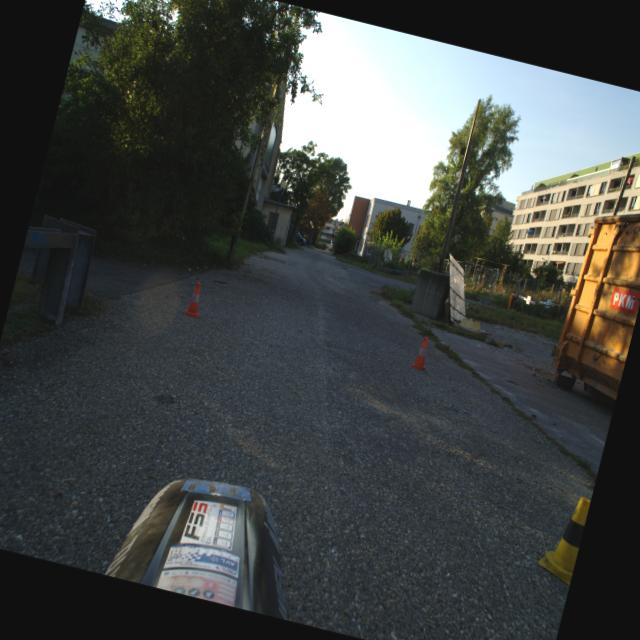orange_cone: (408, 334, 436, 372), (182, 280, 208, 318)
yellow_cone: (534, 490, 590, 585)
